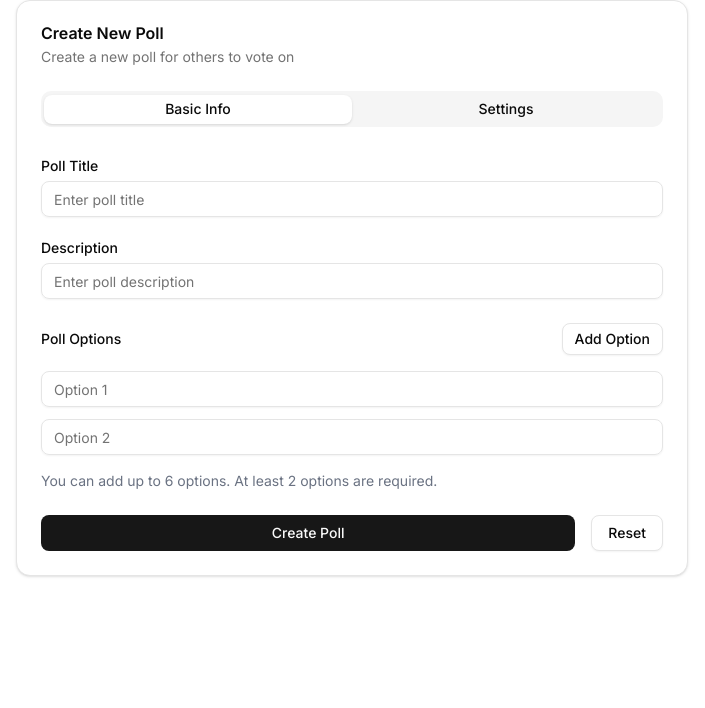
CreatePollForm › should limit maximum number of options
What coordinates should you click on to do the following:
click the button "Add Option"
I would click on:
 (612, 339)
Its box is x1=562 y1=323 x2=663 y2=355.
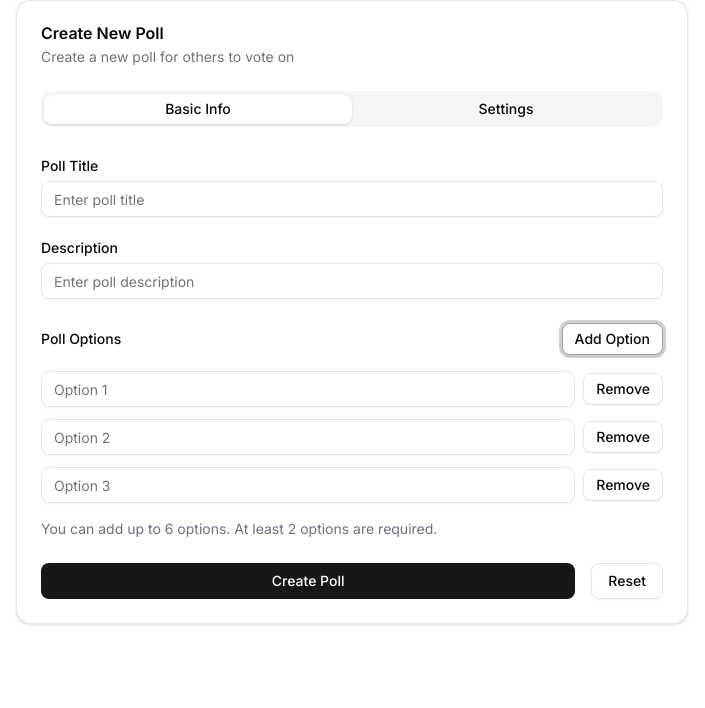
What coordinates should you click on to do the following:
click the button "Add Option"
I would click on:
 (612, 339)
Its box is x1=562 y1=323 x2=663 y2=355.
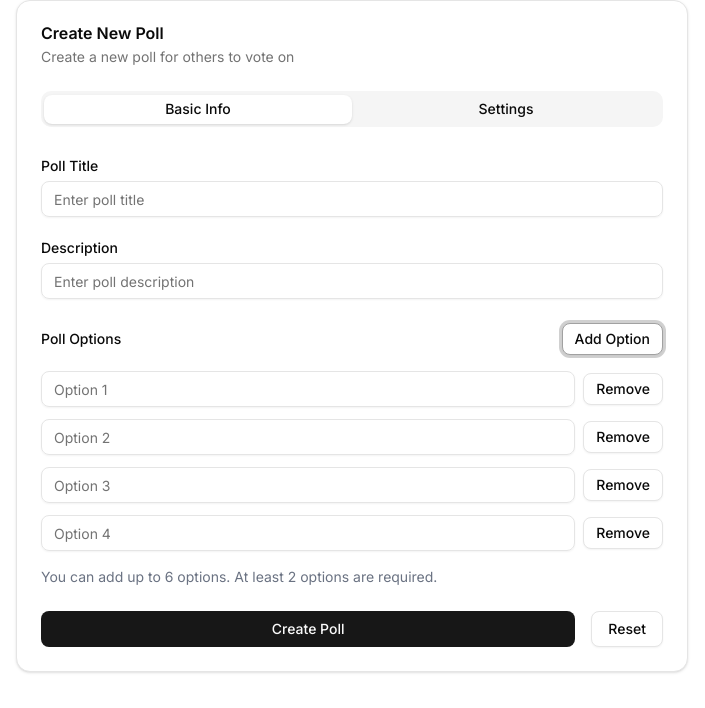
What coordinates should you click on to do the following:
click the button "Add Option"
I would click on:
 (612, 339)
Its box is x1=562 y1=323 x2=663 y2=355.
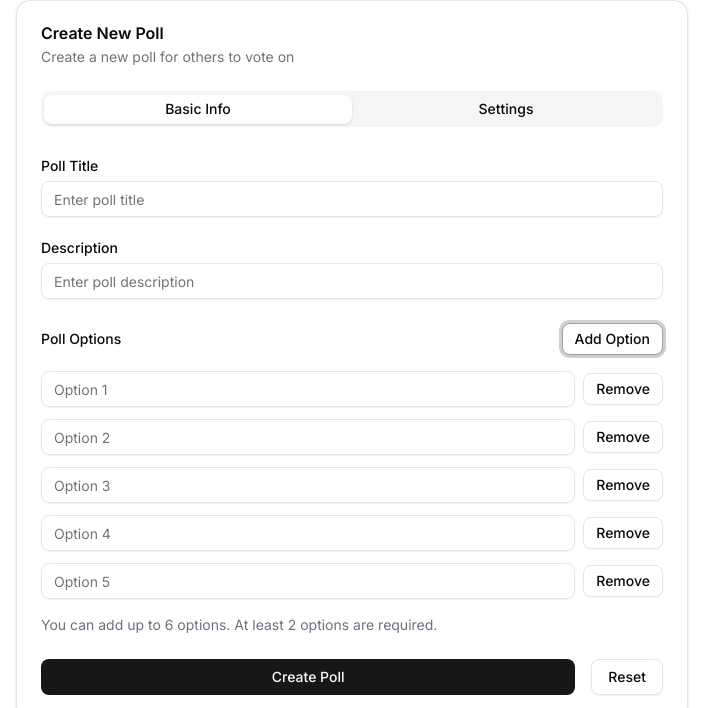
What coordinates should you click on to do the following:
click the button "Add Option"
I would click on:
 (612, 339)
Its box is x1=562 y1=323 x2=663 y2=355.
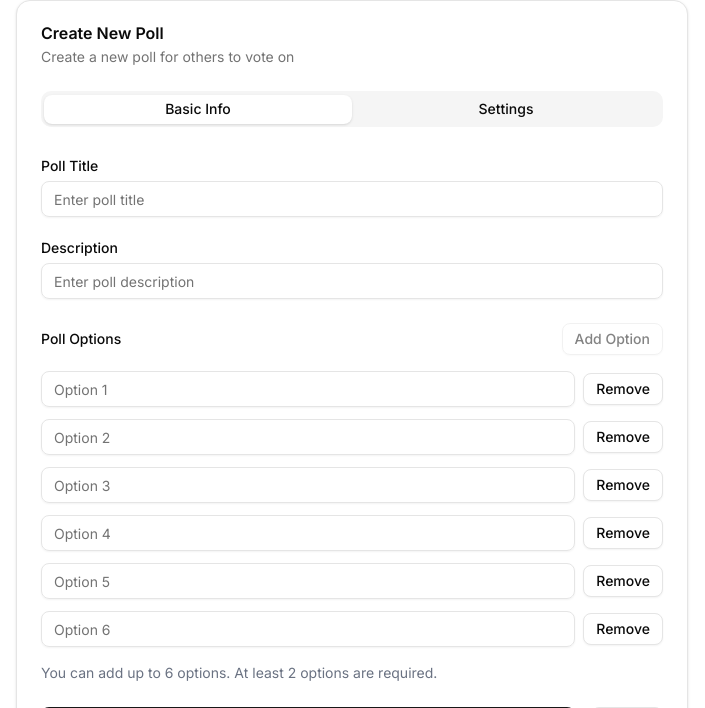
Check: the button "Add Option" is disabled, box x1=562 y1=323 x2=663 y2=355
Check: the field with placeholder "Option 6" is shown, box x1=41 y1=611 x2=575 y2=647
